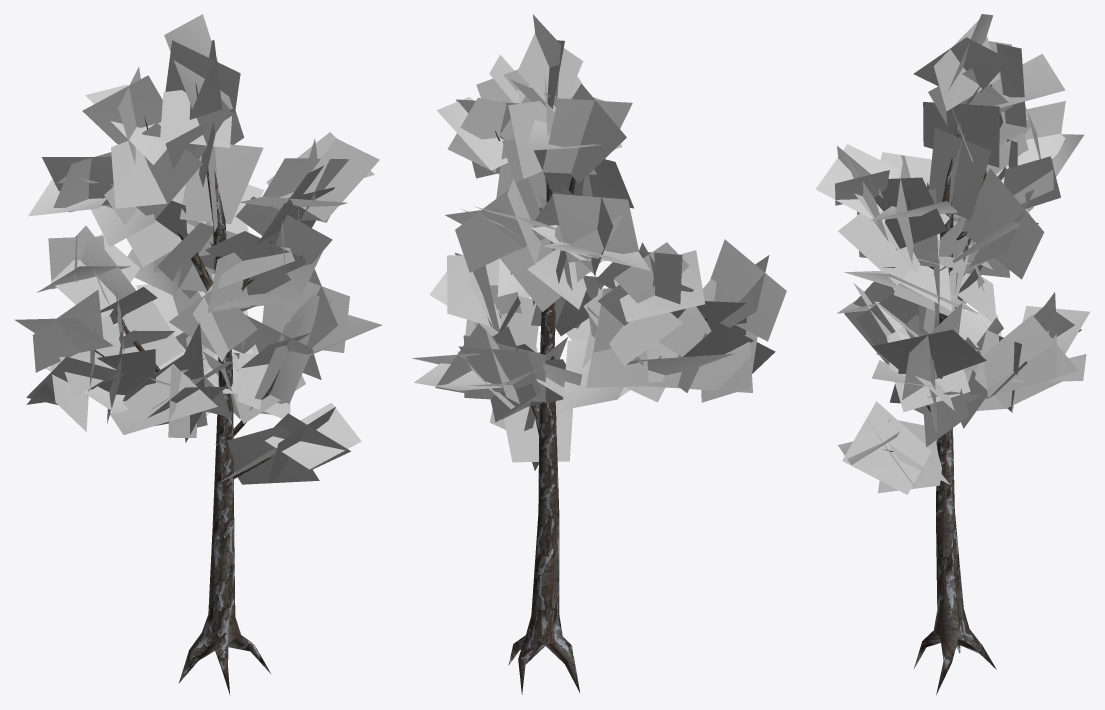
The model's file is Birch_03.fbx.
3 renders of one model, left to right at view 1: azimuth 30°, elevation 25°; view 2: azimuth 150°, elevation 25°; view 3: azimuth 270°, elevation 25°, orthographic. The views are drawn at different scales.
Parts seen in each view (by area): view 1: birch_03; view 2: birch_03; view 3: birch_03.
Boxes of the visible parts, x1,y1,x2,y2 form: birch_03: (15,14,382,695); birch_03: (412,14,786,694); birch_03: (815,14,1089,694).
Size of the model in its own units: 13.19 by 24.86 by 9.4.
